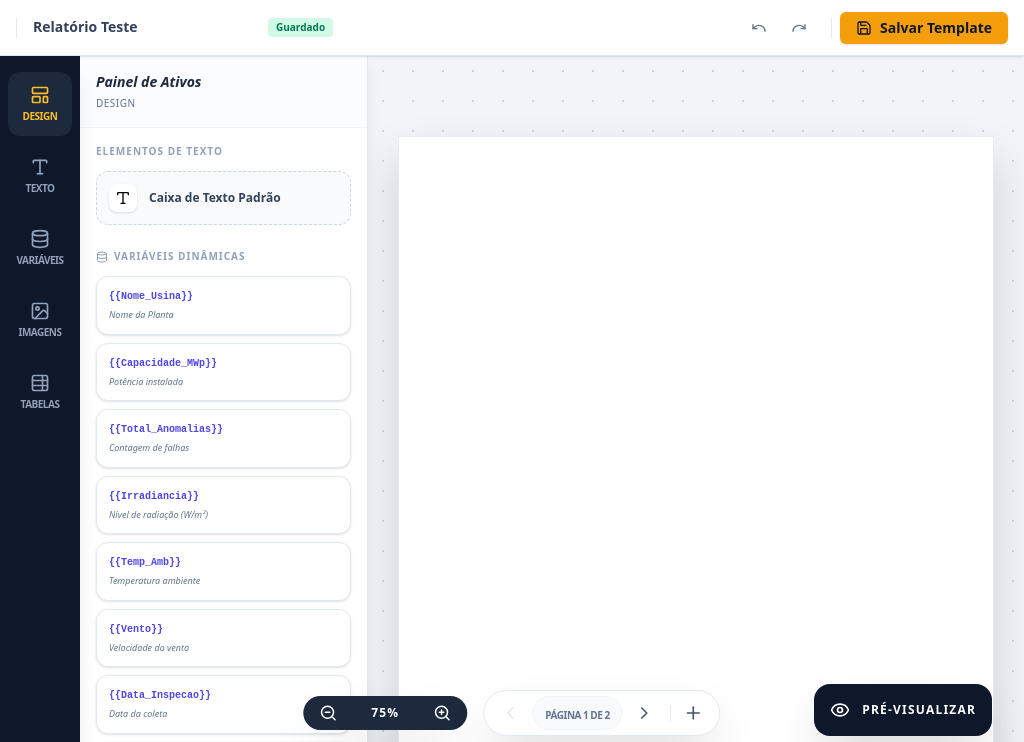
Test: TemplateEditor - Novas Funcionalidades › deve permitir adicionar novas páginas ao template
The image size is (1024, 742).
Click the button titled "Adicionar Página" at (694, 713), box 676,695 -> 712,731
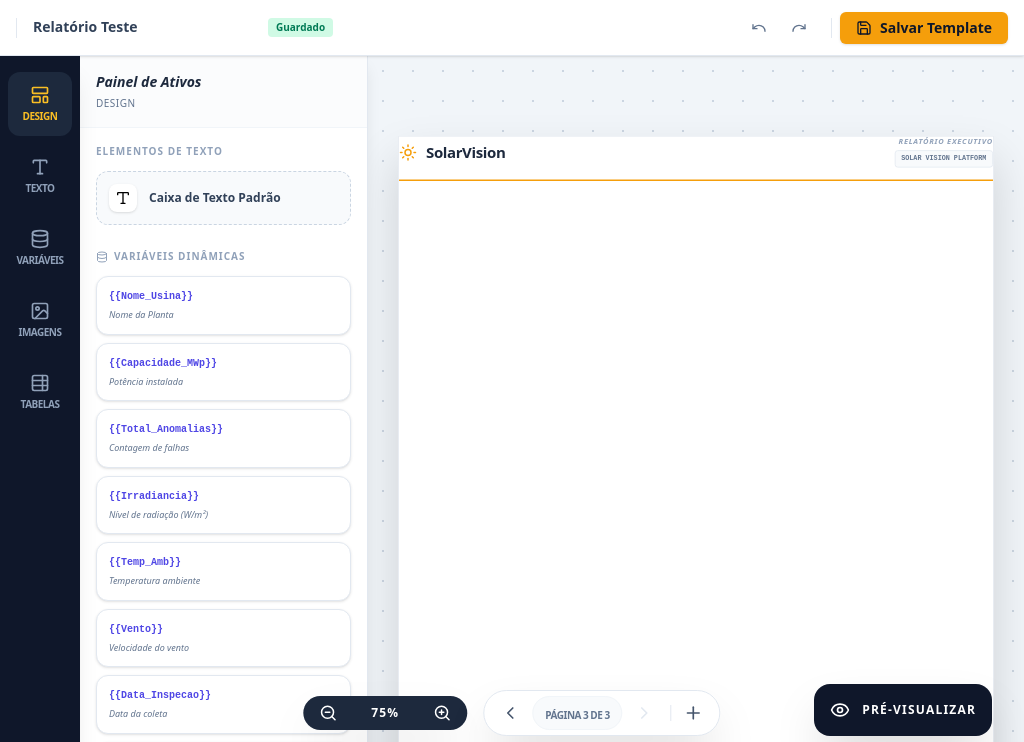
Expected: the text "Página 3 de 3" is shown, 545,708 -> 610,722
